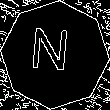N_S: (33, 28, 77, 82)
